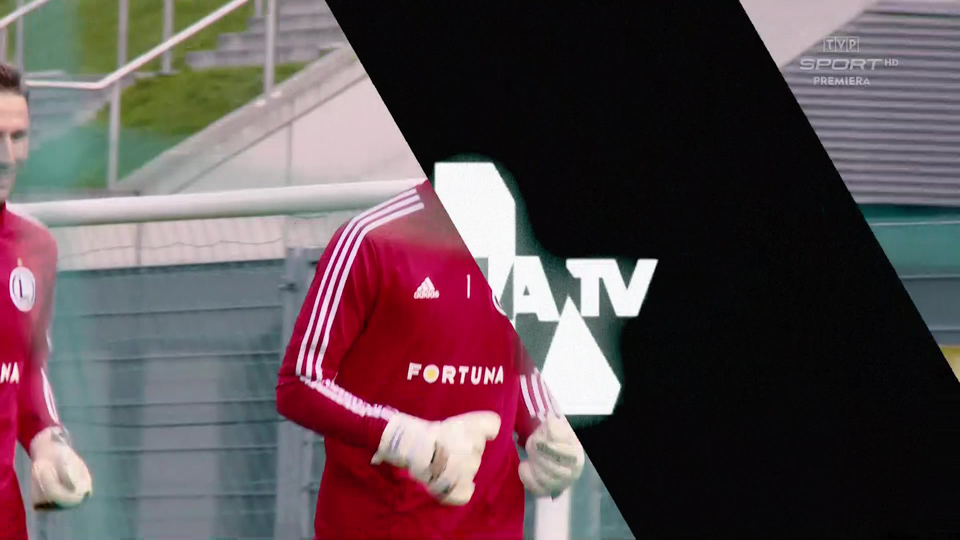Adidas: (412, 277, 440, 299)
